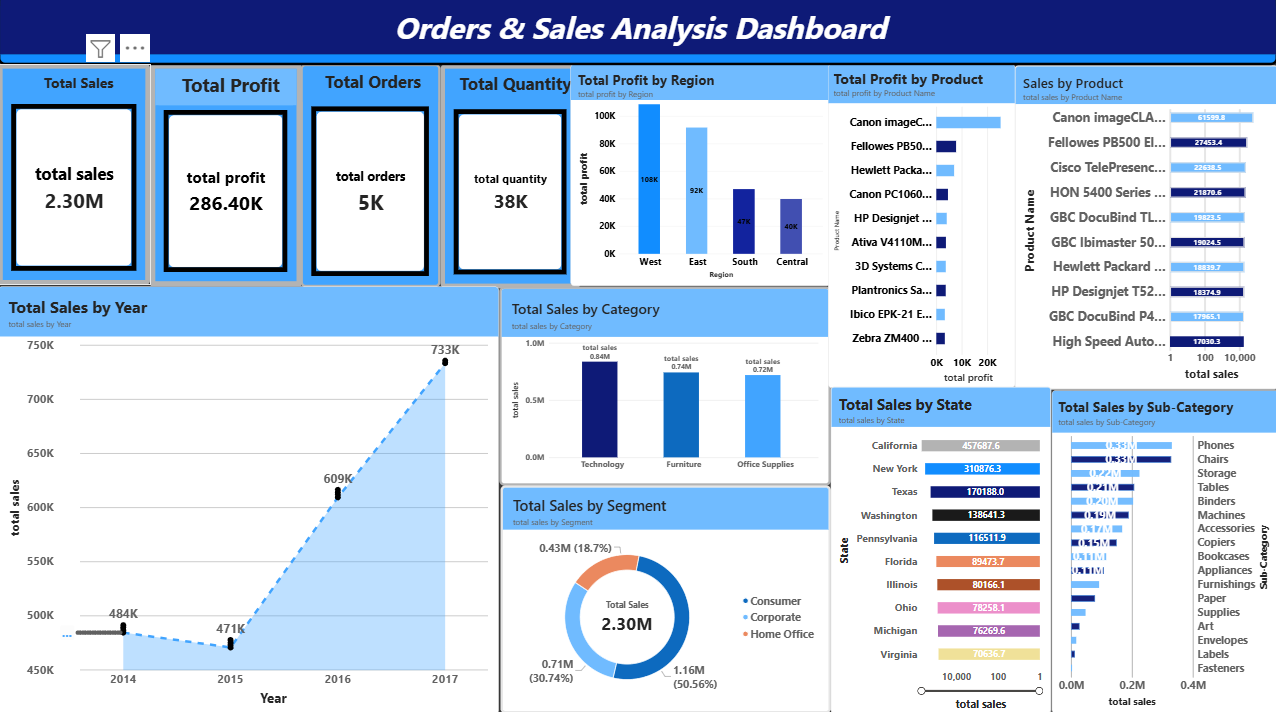

The dashboard page shown, as its layout file describes it:
{"tool":"powerbi","page":{"name":"Orders & Sales Analysis Dashboard","canvas":[2560,1440],"ordinal":0},"visuals":[{"type":"cardVisual","title":"Total Profit","fields":{"Data":["Orders.total profit"]},"box":[304,139.9,301.6,444],"z":1},{"type":"cardVisual","title":"Total Orders","fields":{"Data":["Orders.total orders"]},"box":[605.6,139.9,279.9,446.4],"z":2},{"type":"cardVisual","title":"Total Quantity","fields":{"Data":["Orders.total quantity"]},"box":[885.5,139.9,279.9,448.8],"z":3},{"type":"lineChart","title":"Total Sales by Year","fields":{"Category":["Orders.Order Date.Variation.Date Hierarchy.Year","Orders.Order Date.Variation.Date Hierarchy.Month"],"Y":["Orders.total sales"]},"box":[0,583.9,1001.3,856.6],"z":4},{"type":"clusteredColumnChart","title":"Total Sales by Category","fields":{"Category":["Orders.Category"],"Y":["Orders.total sales"]},"box":[1001.3,583.9,663.5,398.1],"z":5},{"type":"clusteredColumnChart","title":"Total Profit by Region","fields":{"Category":["Orders.Region"],"Y":["Orders.total profit"]},"box":[1146.1,141,520,444],"z":6},{"type":"clusteredBarChart","title":"Sales by Product ","fields":{"Category":["Orders.Product Name"],"Y":["Orders.total sales"]},"box":[2031.6,142.4,528.4,649.1],"z":7},{"type":"clusteredBarChart","title":"Total Profit by Product","fields":{"Category":["Orders.Product Name"],"Y":["Orders.total profit"]},"box":[1660,141,374,648],"z":8},{"type":"donutChart","title":"Total Sales by Segment","fields":{"Category":["Orders.Segment"],"Y":["Orders.total sales"]},"box":[1003.8,982,661.1,458.4],"z":9},{"type":"clusteredBarChart","title":"Total Sales by State","fields":{"Category":["Orders.State"],"Y":["Orders.total sales"]},"box":[1664.9,784.2,441.6,656.3],"z":10},{"type":"clusteredBarChart","title":"Total Sales by Sub-Category","fields":{"Category":["Orders.Sub-Category"],"Y":["Orders.total sales"]},"box":[2106.4,791.4,454,649],"z":11},{"type":"shape","title":"Orders & Sales Analysis Dashboard","box":[0,0,2560.1,142.4],"z":12},{"type":"cardVisual","title":"Total Sales","fields":{"Data":["Orders.total sales"]},"box":[0,139.9,304,441.6],"z":13}]}

Visuals, with their boxes in screenshot pixels (x1, y1, x2, y2), scaled from the page's 2560x1440 canvas onto the 1276x712 screenshot:
"Total Profit" cardVisual: rect(152, 69, 302, 289)
"Total Orders" cardVisual: rect(302, 69, 441, 290)
"Total Quantity" cardVisual: rect(441, 69, 581, 291)
"Total Sales by Year" lineChart: rect(0, 289, 499, 711)
"Total Sales by Category" clusteredColumnChart: rect(499, 289, 830, 486)
"Total Profit by Region" clusteredColumnChart: rect(571, 70, 830, 289)
"Sales by Product " clusteredBarChart: rect(1013, 70, 1275, 391)
"Total Profit by Product" clusteredBarChart: rect(827, 70, 1014, 390)
"Total Sales by Segment" donutChart: rect(500, 486, 830, 711)
"Total Sales by State" clusteredBarChart: rect(830, 388, 1050, 711)
"Total Sales by Sub-Category" clusteredBarChart: rect(1050, 391, 1275, 711)
"Orders & Sales Analysis Dashboard" shape: rect(0, 0, 1275, 70)
"Total Sales" cardVisual: rect(0, 69, 152, 288)
